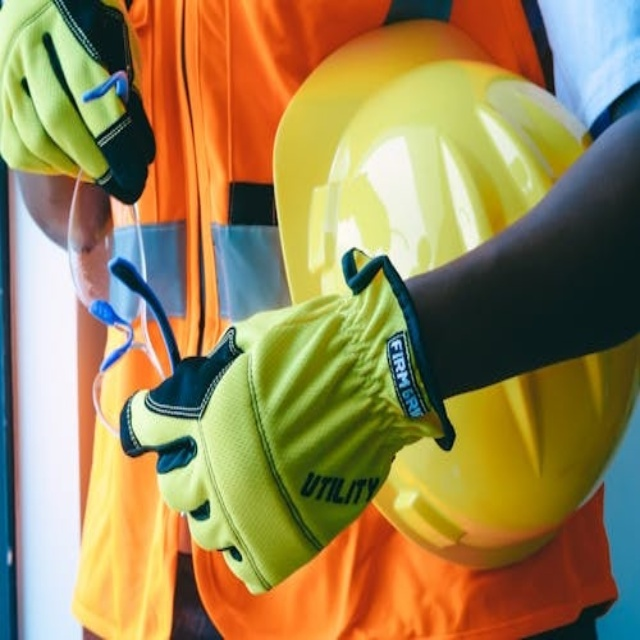Guantes: (118, 246, 447, 595), (0, 0, 157, 205)
